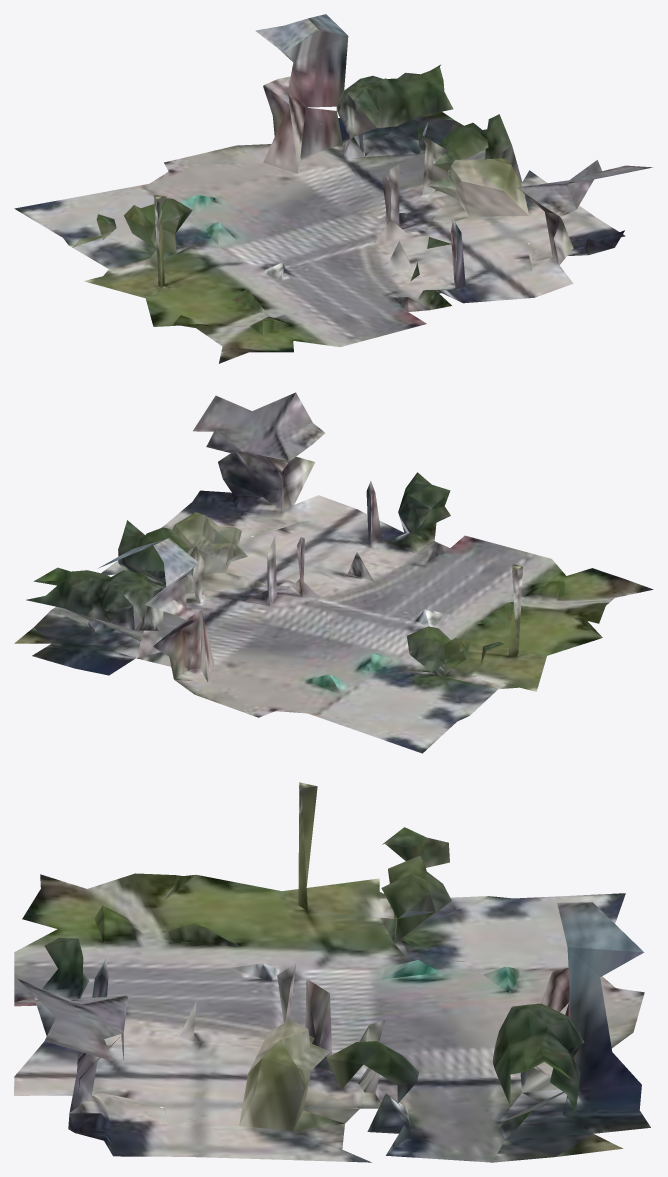
File: Tile_+005_+000_L16_0.glb
3 views of the same model, one above another, from view 1: azimuth 30°, elevation 25°; view 2: azimuth 150°, elevation 25°; view 3: azimuth 270°, elevation 25° (orthographic). The views are drawn at different scales.
Parts seen in each view (by area): view 1: rtc; view 2: rtc; view 3: rtc.
Part boxes in pixels (bbox=[...]): rtc: bbox=[14, 14, 652, 363]; rtc: bbox=[14, 392, 653, 753]; rtc: bbox=[14, 782, 650, 1162].
Size of the model in its own units: 60.37 by 16.84 by 55.45.
Materials: 1 (1 with a texture image).
